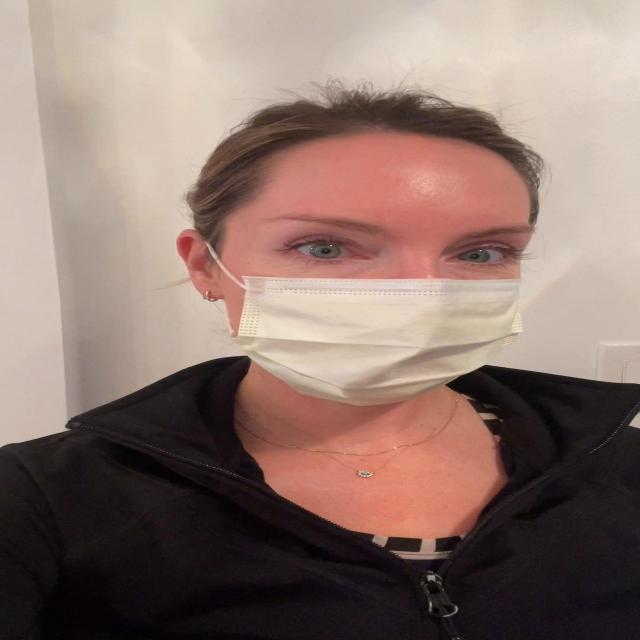no-helmet: (160, 107, 566, 420)
